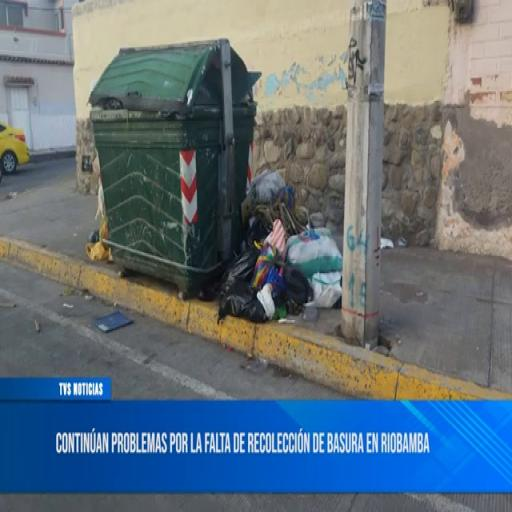Basura_fuera: (90, 40, 342, 321)
Detector-de-basura: (90, 40, 342, 320)
